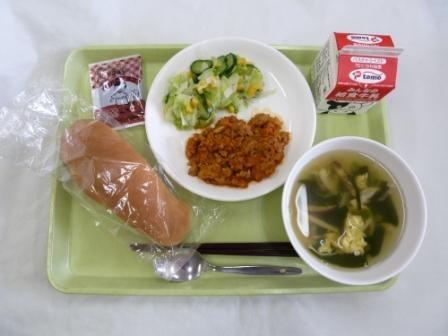Bread: (45, 118, 199, 252)
Milk: (302, 20, 403, 123)
Salad: (162, 46, 262, 123)
cereal based cooked food: (182, 116, 287, 192)
vegetable soup: (288, 135, 427, 281)
